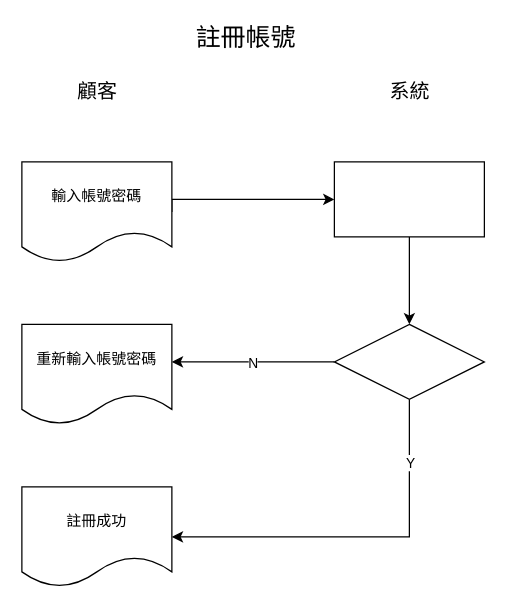
Image size: 506x609. Some labels were removed from this diagram. The shapes that lost their labels are listed below. From the top down, each one's centre as x and y in pixels, then its label:
At pixel 408 199: "註冊處理".
At pixel 408 361: "註冊成功？".
